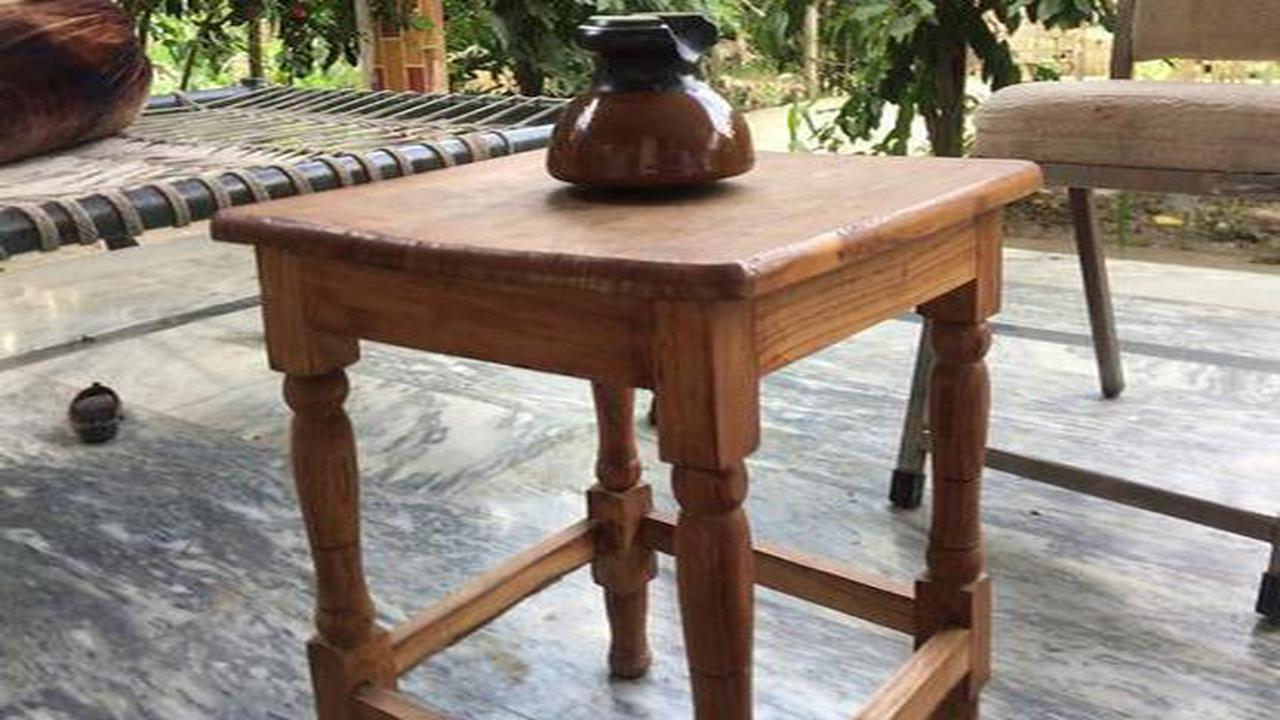insulator_pin: (533, 6, 779, 215)
